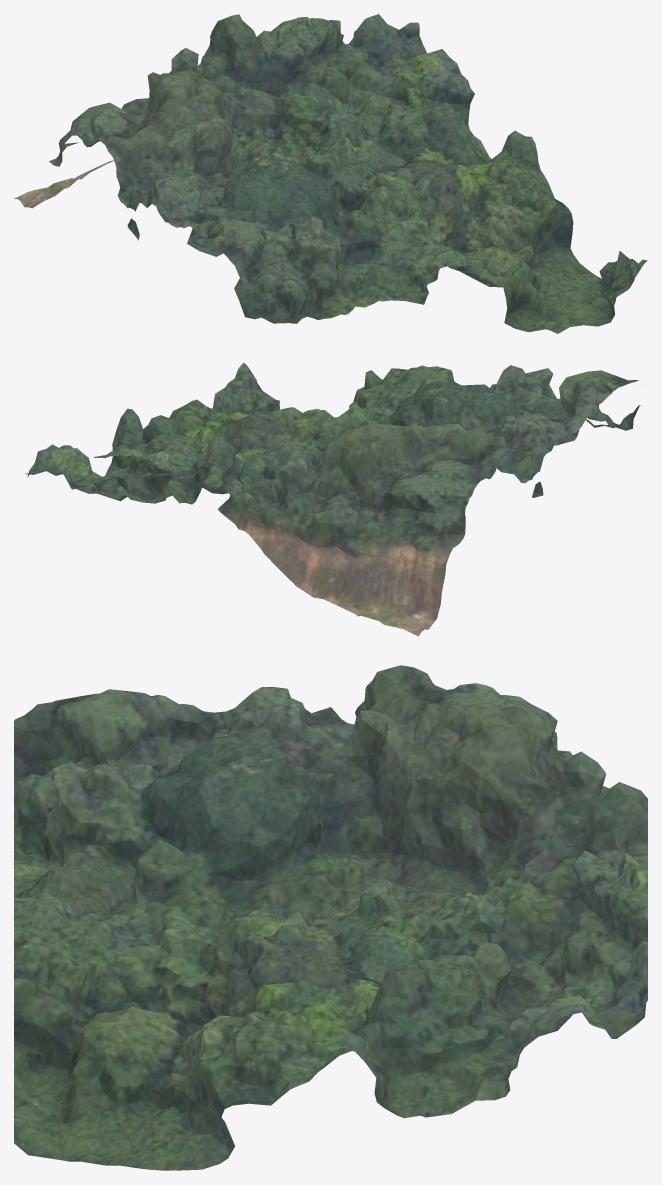
File: Tile__005__006_L20_000320t3.glb
3 views of the same model, one above another, from view 1: azimuth 30°, elevation 25°; view 2: azimuth 150°, elevation 25°; view 3: azimuth 270°, elevation 25° (orthographic). The views are drawn at different scales.
Parts seen in each view (by area): view 1: root; view 2: root; view 3: root.
Part boxes in pixels (x1,y1,x2,y2): root: [14, 14, 647, 333]; root: [25, 362, 640, 636]; root: [14, 665, 647, 1170].
Bounding box in the file's own units: 25.69 × 11.68 × 25.25.
4 materials, 4 textured.
